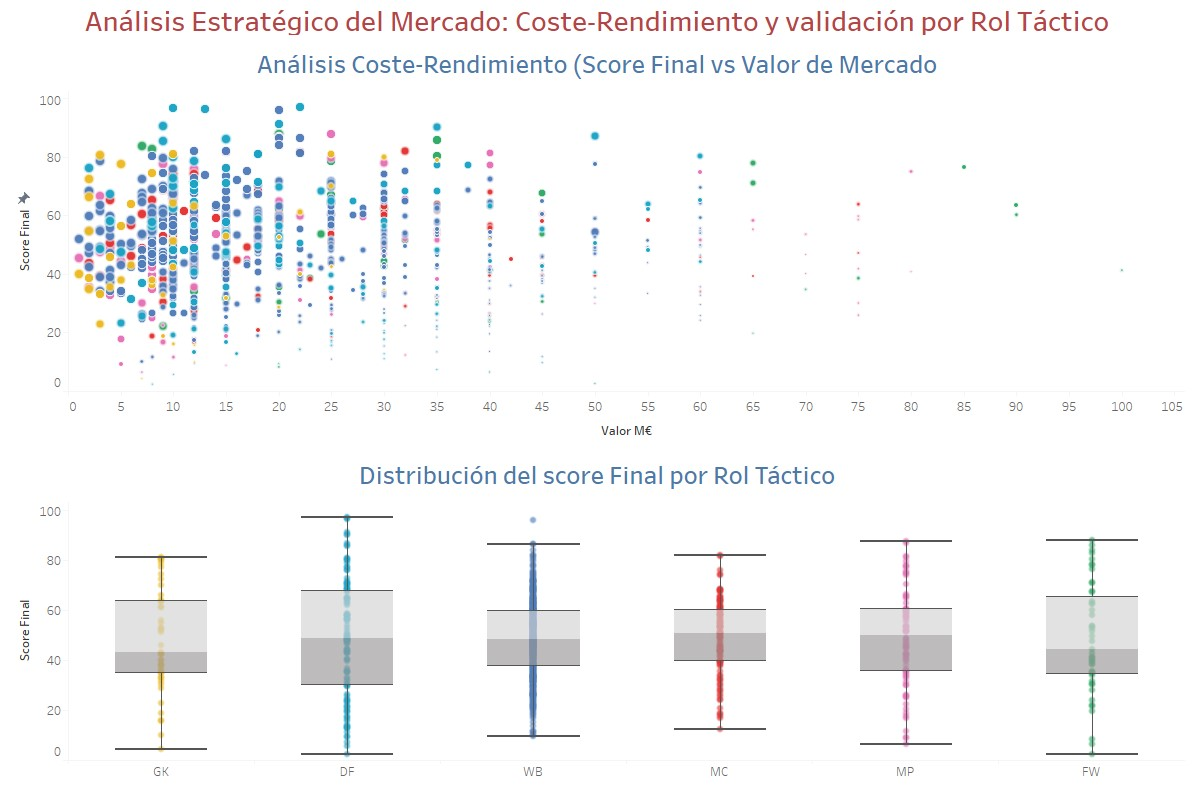

Layout of this report page (visuals, bound fields, positions):
{"tool":"tableau","page":{"name":"Análisis Estratégico del Mercado","canvas":[1200,800],"ordinal":0},"visuals":[{"type":"text","box":[8,8,1184,38]},{"type":"worksheet","title":"Coste-Rendimiento","mark":"Circle","rows":["Score_Final"],"cols":["Valor_M€"],"box":[8,46,1184,411]},{"type":"worksheet","title":"Distribución Score por Posición","mark":"Circle","rows":["Score_Final"],"cols":["Pos_Model"],"box":[8,457,1184,335]}]}

Visuals, with their boxes in screenshot pixels (x1, y1, x2, y2), scaled from the page's 1200x800 canvas onto the 1192x790 screenshot:
text: [8,8,1184,45]
"Coste-Rendimiento" worksheet (Circle marks): [8,45,1184,451]
"Distribución Score por Posición" worksheet (Circle marks): [8,451,1184,782]
